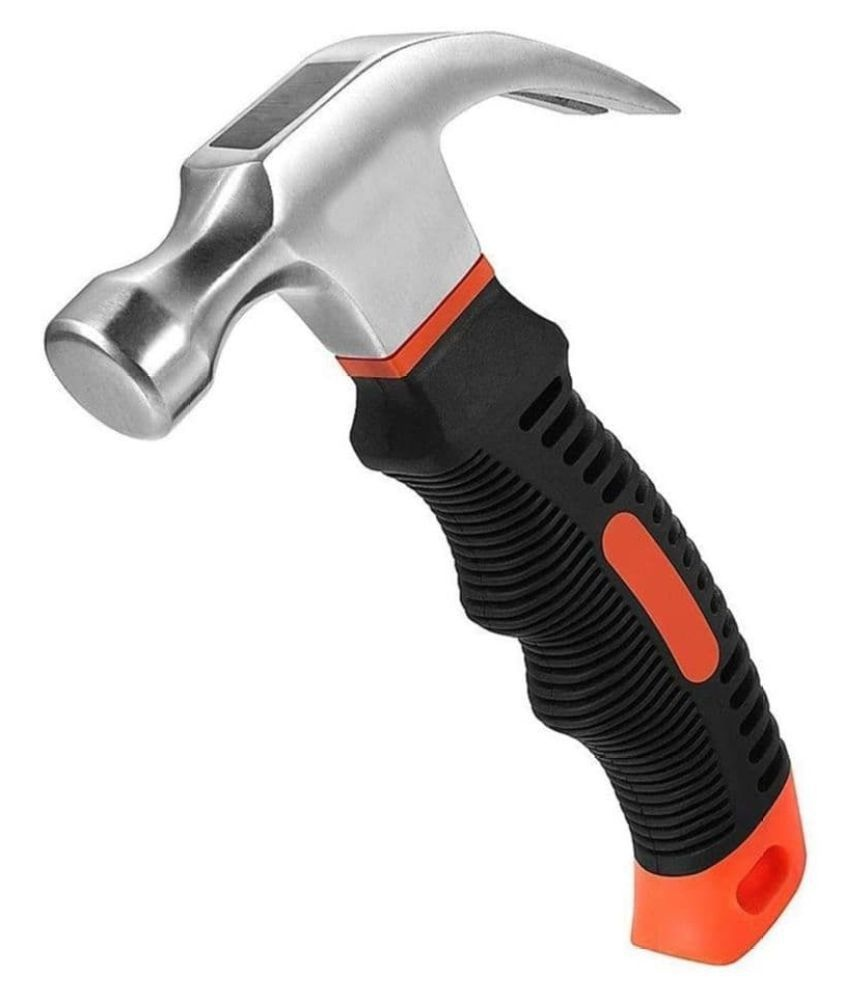hammer: (31, 23, 810, 968)
